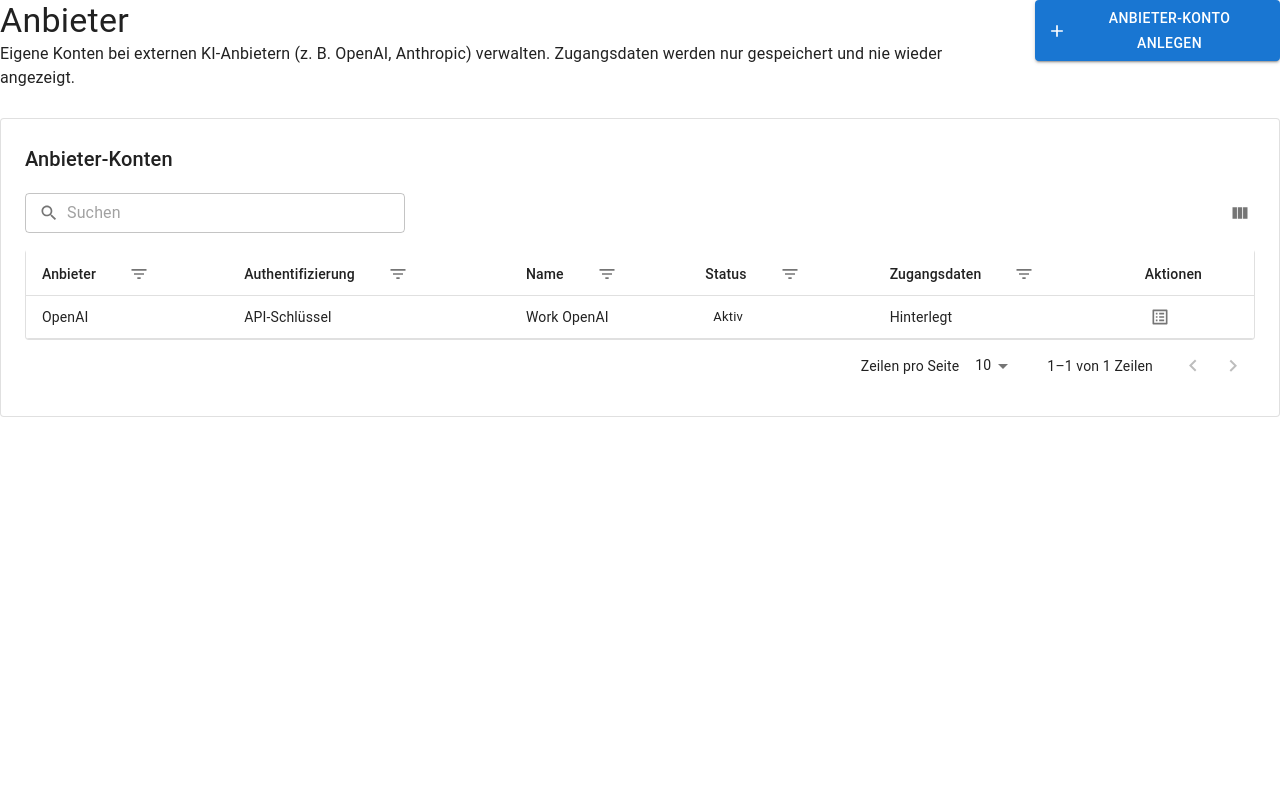
it: lets an admin owner raise a personal account to Shared, naming its management group
Click the button named "Details": (1160,317) [1145,302,1175,332]
(page scrolled)
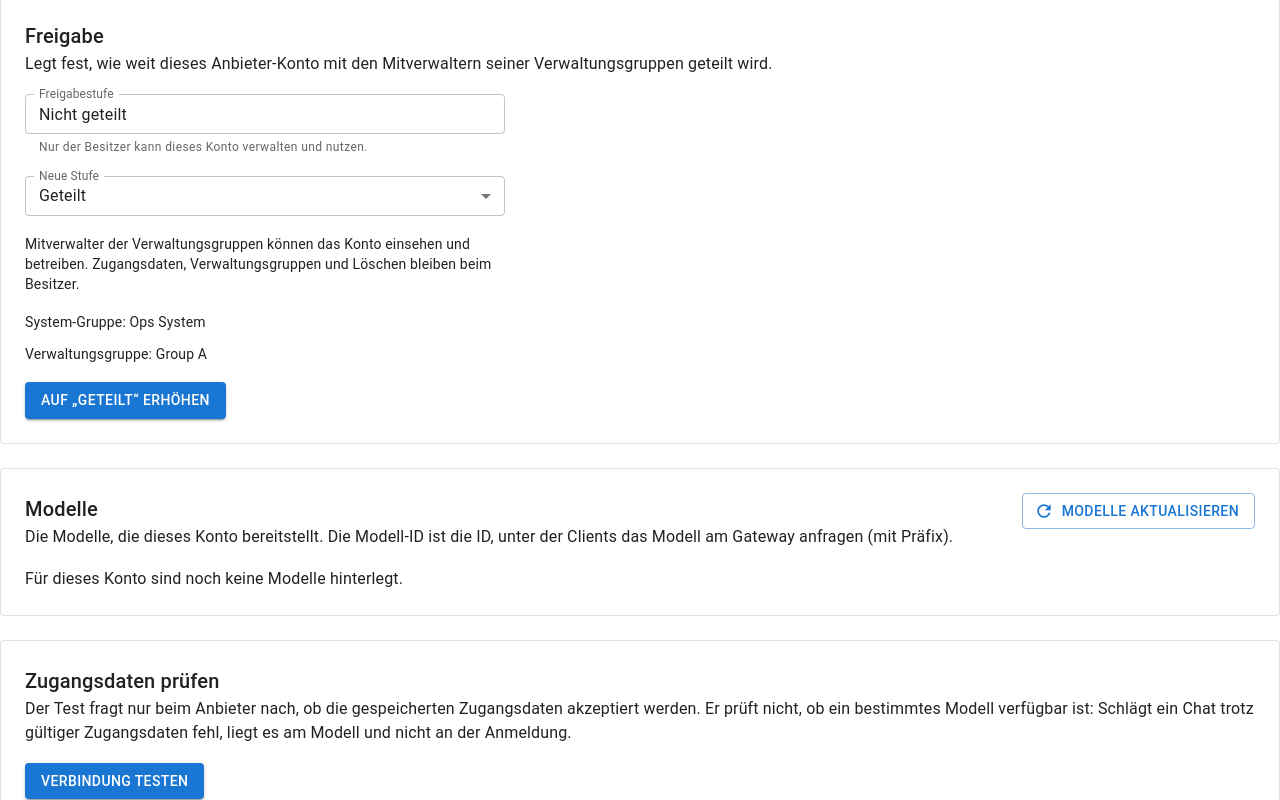
expect the field labelled "Freigabestufe" holds "Nicht geteilt": met, box [25,94,505,134]
Click the button "Auf „Geteilt“ erhöhen": (125,400) [25,382,226,418]
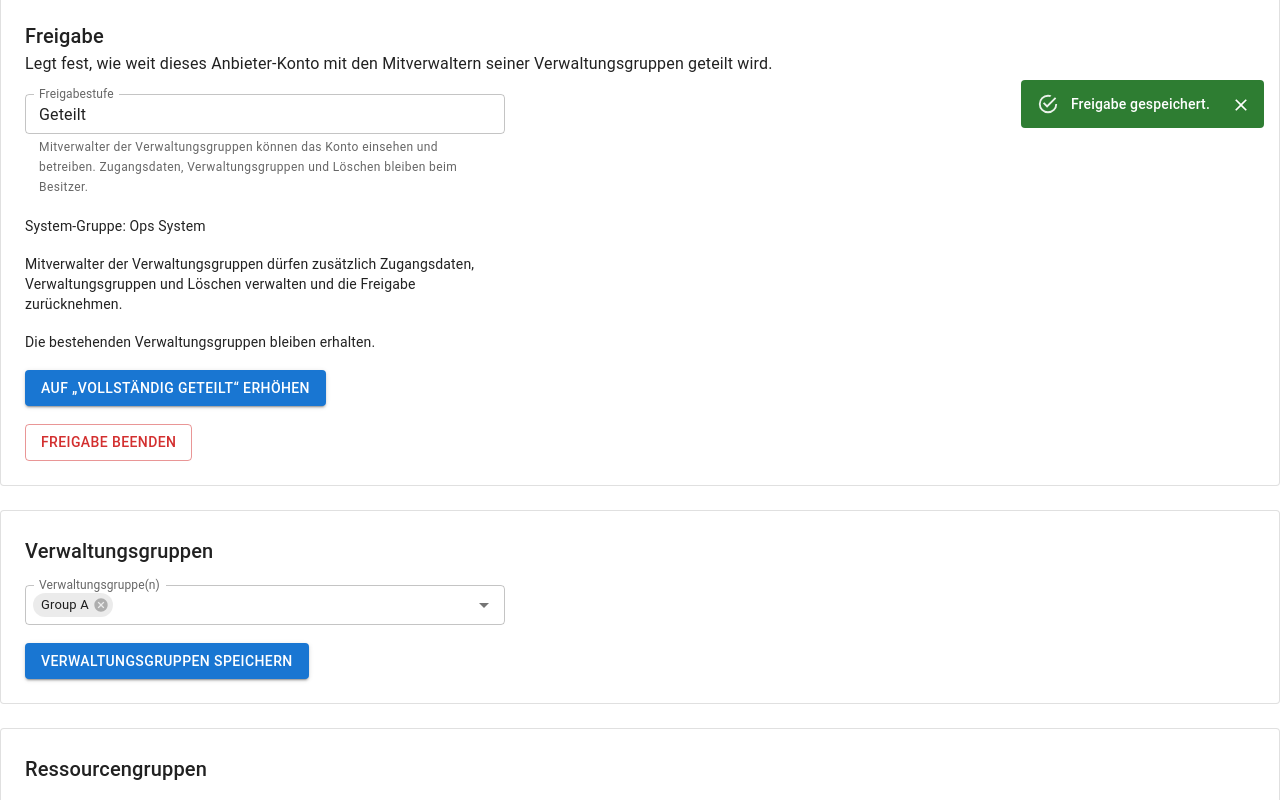
expect the text "Freigabe gespeichert." is shown: met, box [1071,96,1210,112]
expect the field labelled "Freigabestufe" holds "Geteilt": met, box [25,94,505,134]
